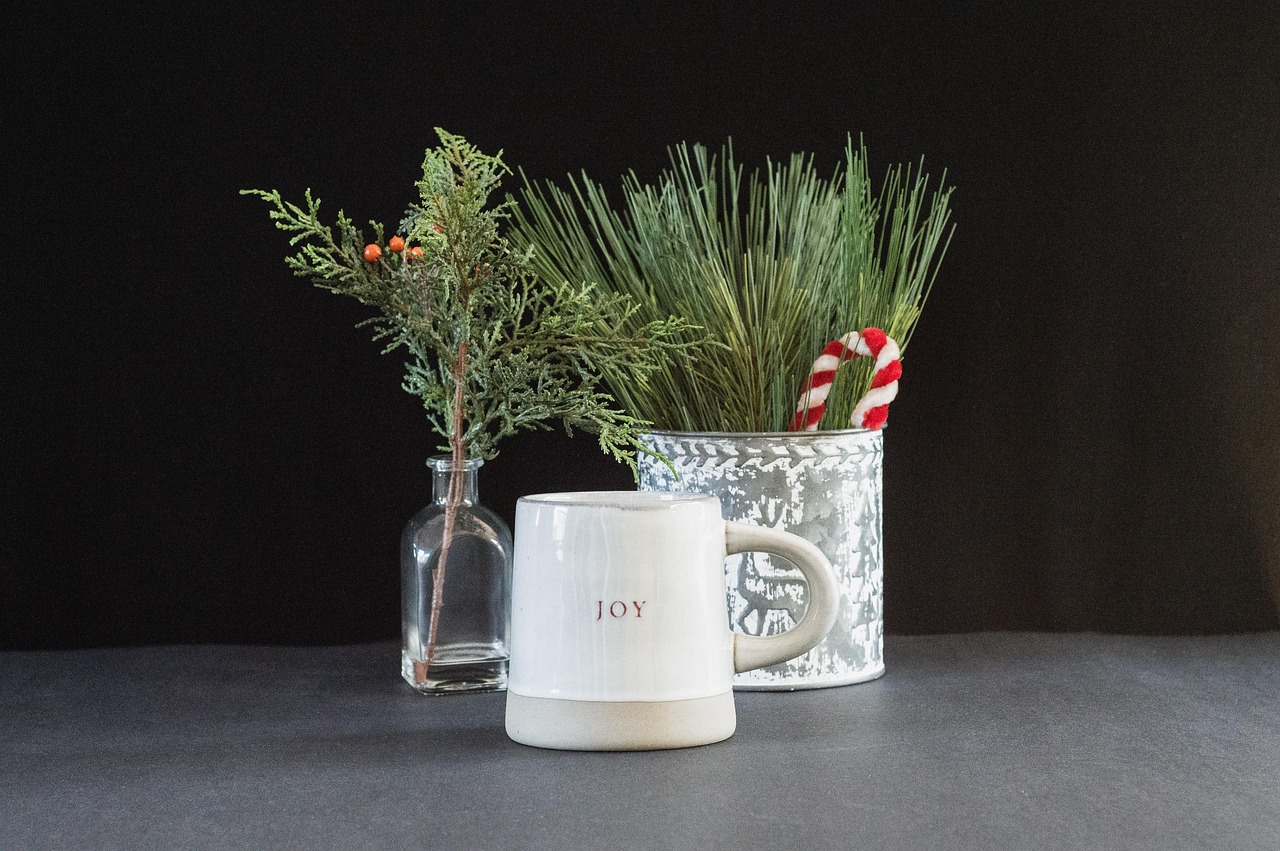mug: (475, 433, 881, 793)
